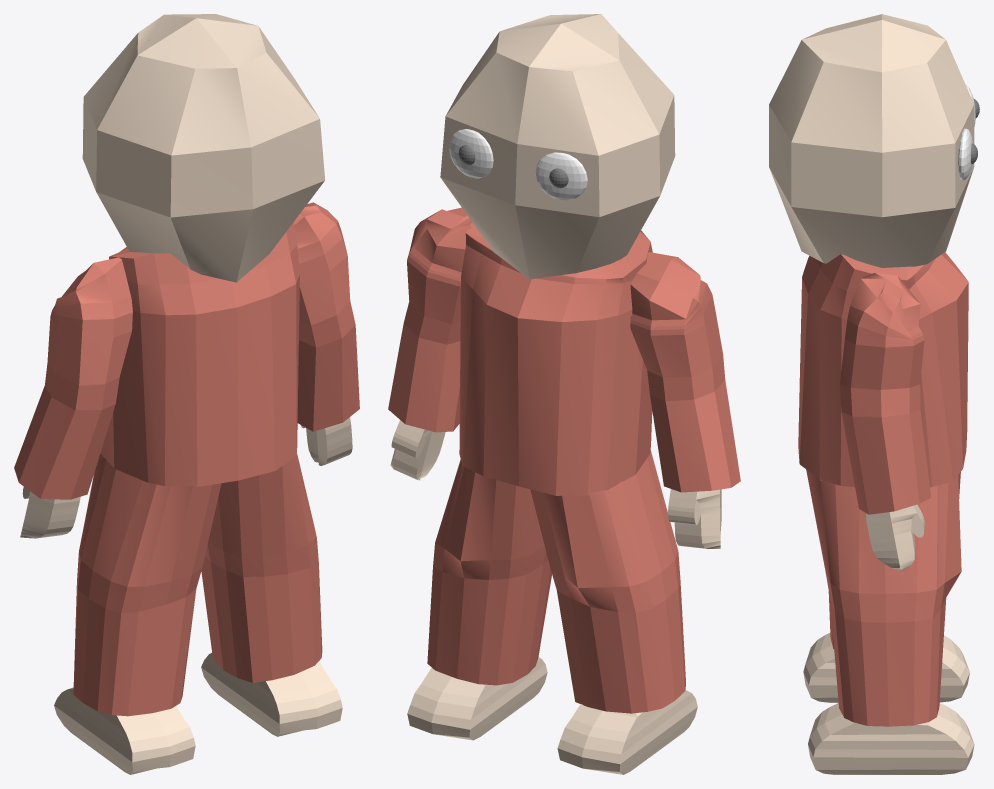
3 renders of one model, left to right at view 1: azimuth 30°, elevation 25°; view 2: azimuth 150°, elevation 25°; view 3: azimuth 270°, elevation 25°, orthographic.
Visible parts, largest first — view 1: head; view 2: head; view 3: head.
Boxes of the visible parts, left/top/right/bottom form: head: left=14, top=14, right=359, bottom=774; head: left=388, top=14, right=740, bottom=774; head: left=769, top=14, right=979, bottom=774.
Size of the model in its own units: 1.36 by 2.71 by 0.7358.
